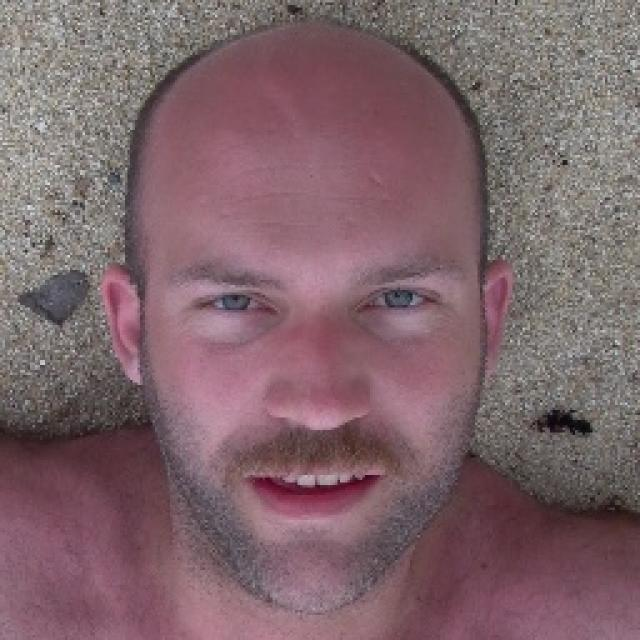earlobe: (122, 344, 146, 384)
eye: (358, 288, 435, 314), (195, 291, 272, 314)
nose: (266, 407, 379, 471)
wholeear: (100, 263, 146, 384), (480, 258, 514, 382)
